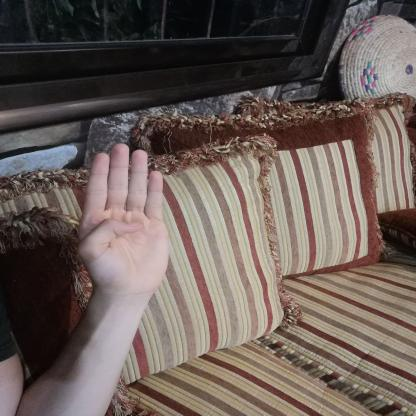KAAF: (62, 135, 181, 308)
